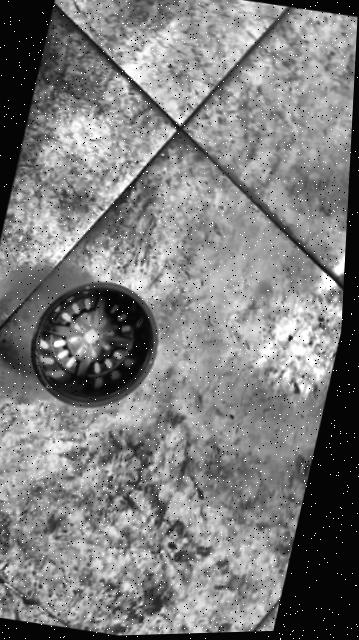pot: (16, 269, 170, 418)
